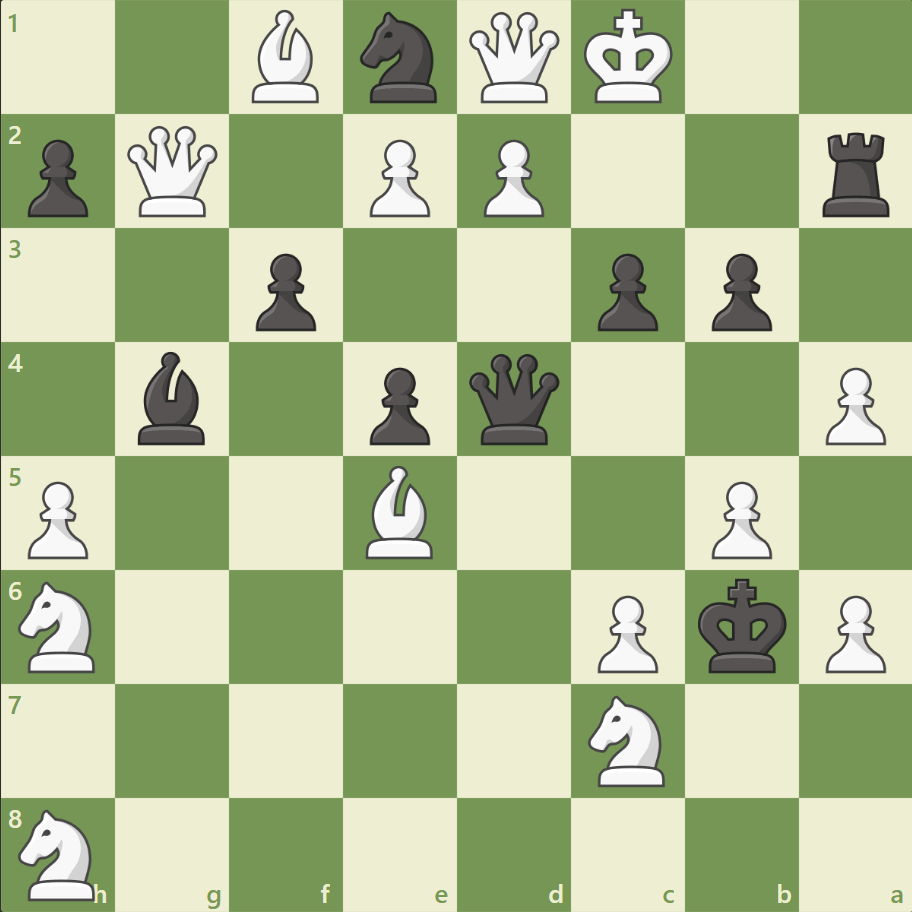B: (358, 460, 442, 563), (244, 6, 328, 109)
K: (579, 4, 679, 112)
N: (579, 688, 676, 791), (11, 802, 108, 904), (11, 575, 108, 677)
P: (701, 473, 776, 564), (20, 473, 95, 564), (474, 132, 549, 223), (815, 586, 889, 677), (588, 586, 662, 677), (815, 359, 889, 450), (361, 132, 435, 223)
Q: (124, 122, 223, 222), (464, 9, 563, 108)
b: (131, 347, 215, 449)
k: (692, 571, 792, 679)
n: (351, 7, 449, 110)
p: (701, 246, 776, 337), (247, 246, 322, 337), (20, 132, 95, 223), (361, 359, 435, 450), (588, 246, 662, 337)
q: (464, 349, 563, 449)
r: (814, 125, 897, 222)
